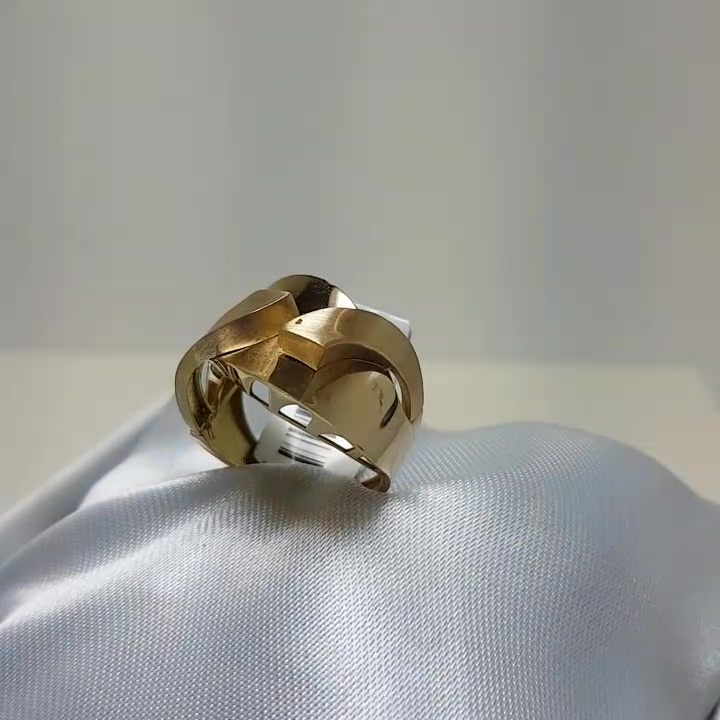Ring 4: (162, 271, 435, 519)
